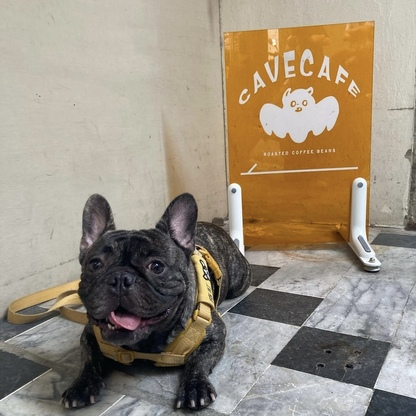bulldog: (57, 190, 256, 416)
